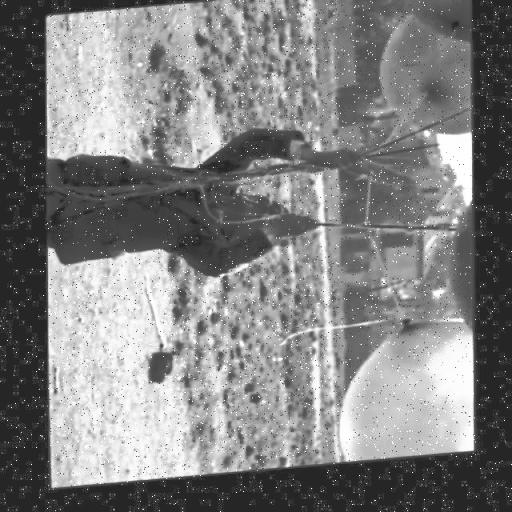balloon: (337, 326, 474, 470), (378, 17, 472, 149), (398, 0, 473, 53), (447, 209, 475, 341)
